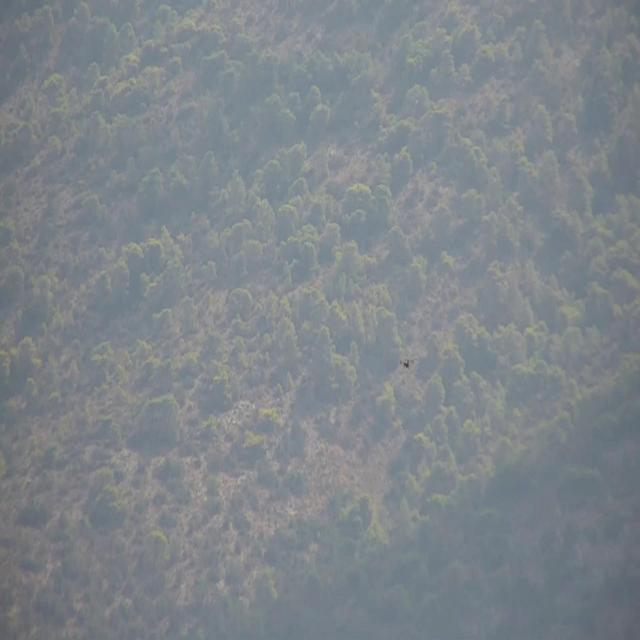drone: (398, 352, 417, 375)
